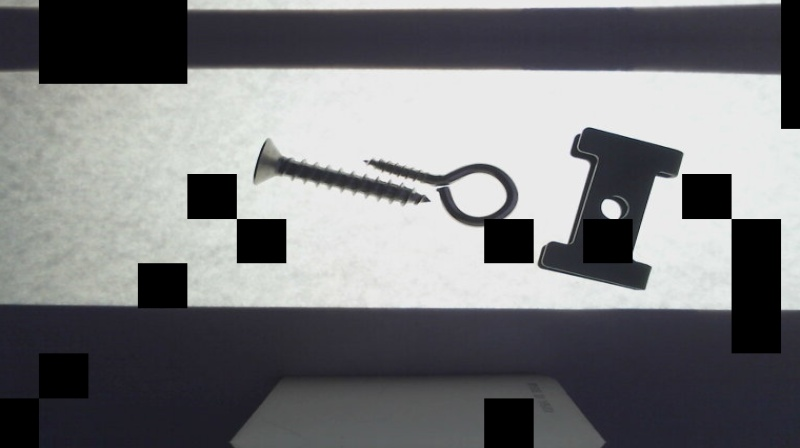O001: (359, 158, 520, 228)
O002: (537, 126, 685, 290)
S001: (251, 138, 432, 204)
